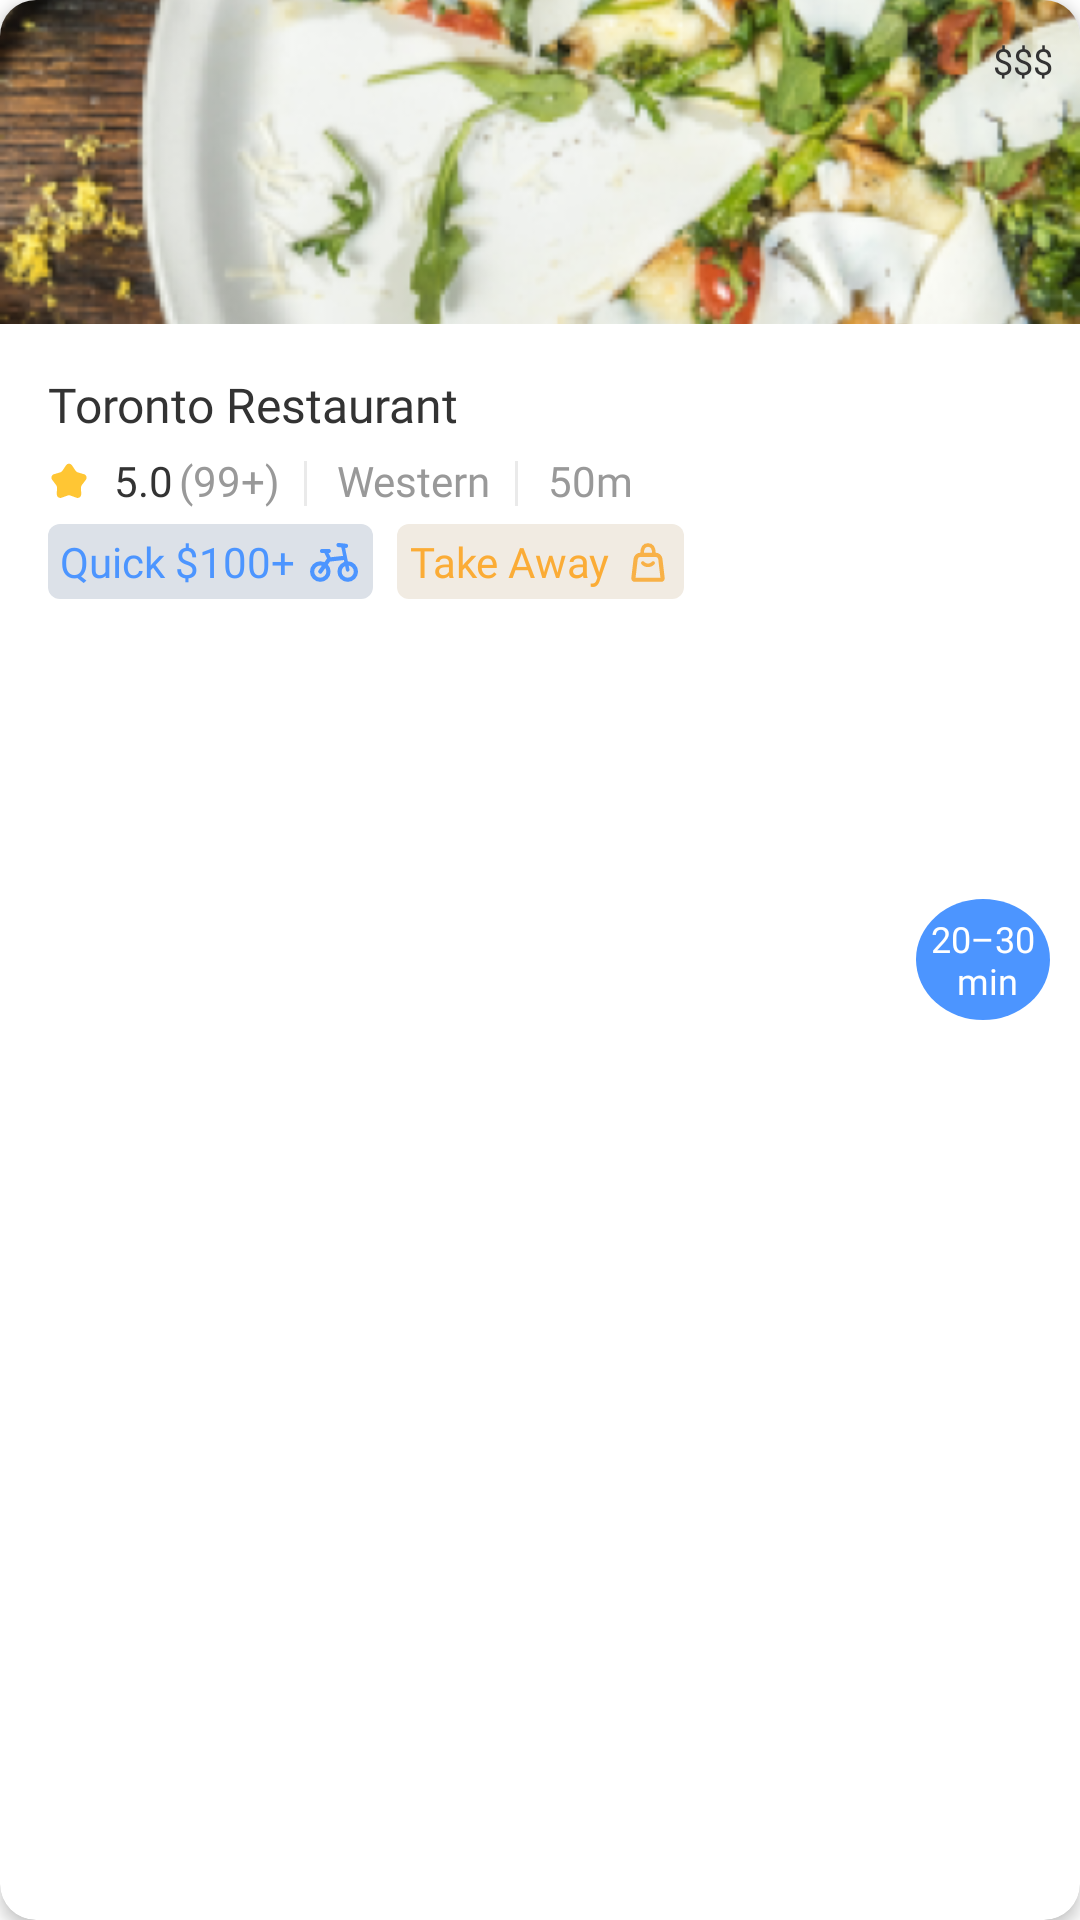

Named icons in this screenshot (1080px×1920px) and their bounding boxes, (left=x1, top=y1, right=x2, bottom=y2):
bag: (left=631, top=543, right=665, bottom=582)
bicycle: (left=310, top=543, right=358, bottom=582)
star: (left=51, top=463, right=87, bottom=498)
